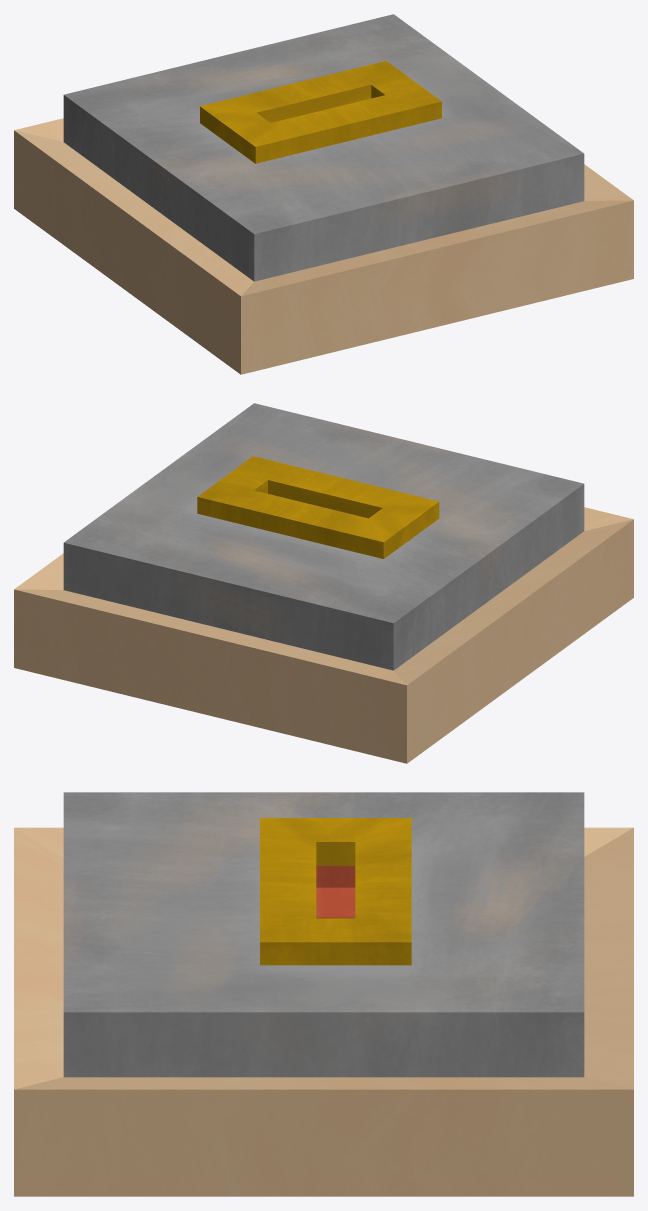
File: hole_key_key.fbx
The picture shows the model from 3 angles, top to bottom: view 1: azimuth 30°, elevation 25°; view 2: azimuth 150°, elevation 25°; view 3: azimuth 270°, elevation 25°; orthographic projection. The views are drawn at different scales.
Visible parts, largest first — view 1: hole_key; view 2: hole_key; view 3: hole_key.
Part boxes in pixels (x1=…): hole_key: x1=14, y1=14, x2=633, y2=374; hole_key: x1=14, y1=403, x2=633, y2=763; hole_key: x1=14, y1=792, x2=633, y2=1196.
Size of the model in its own units: 47.98 by 47.98 by 15.92.
